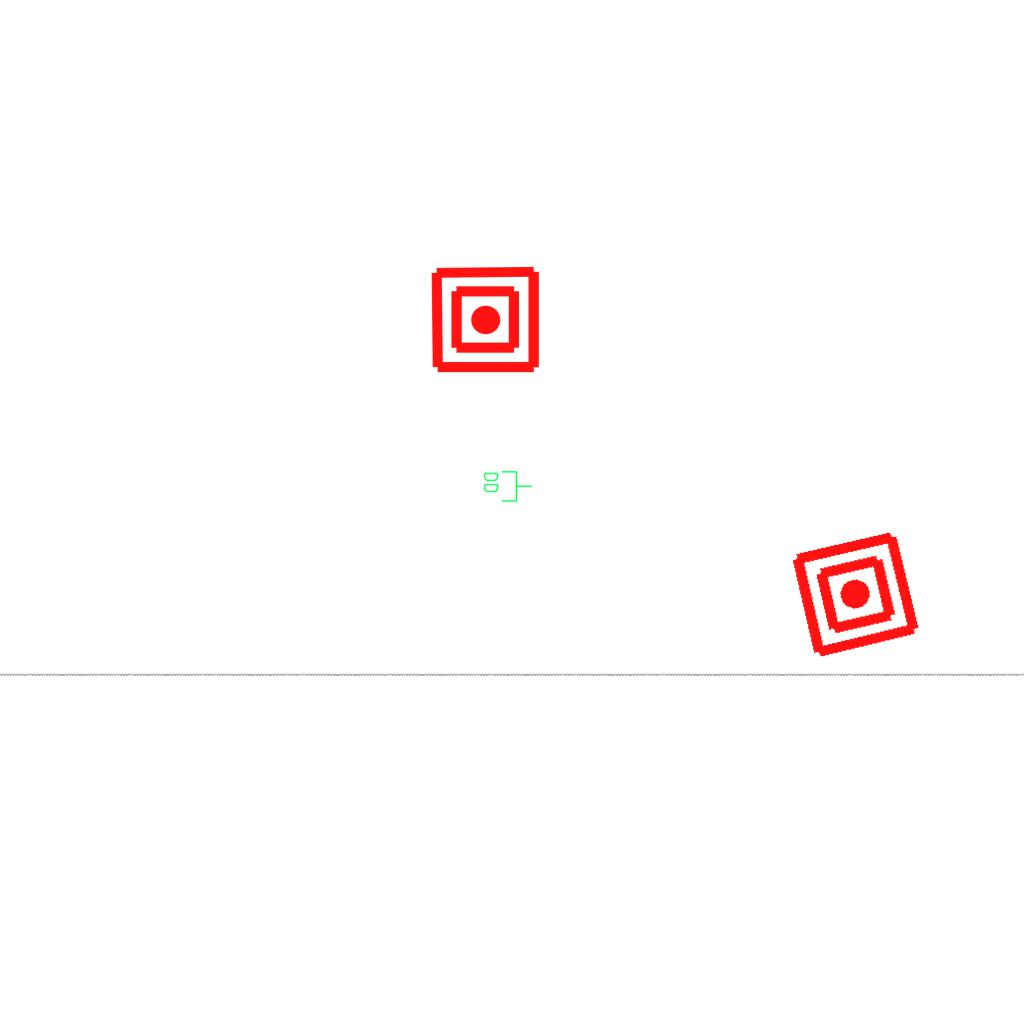Datenanschluss_zweifach: (482, 469, 533, 503)
NAM-Nichtautomatischer_Melder: (787, 526, 924, 663), (429, 263, 542, 376)
